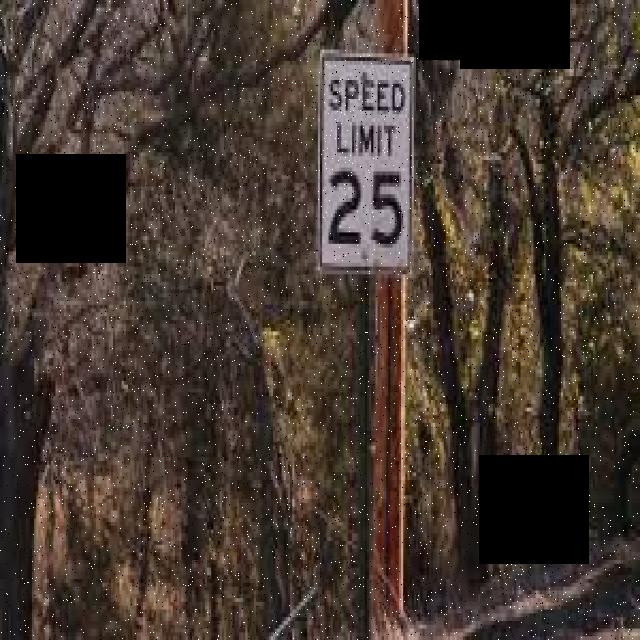regulatory: (315, 41, 417, 281)
